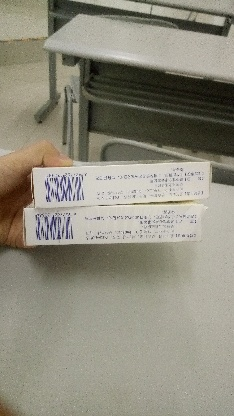pillbox: (22, 205, 200, 247), (28, 162, 210, 203)
